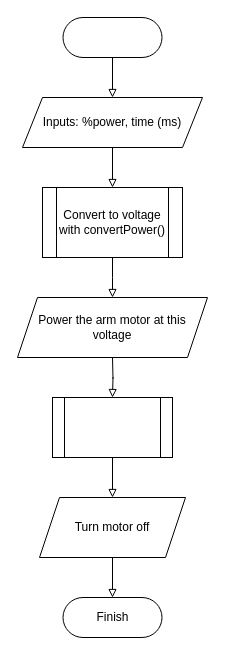
Image size: 225x655. Some labels were removed from this diagram. The centre of each missing label's shape, as x and y in pixels:
"Delay for input time" belongs at [112,427].
"Start" belongs at [112,37].
